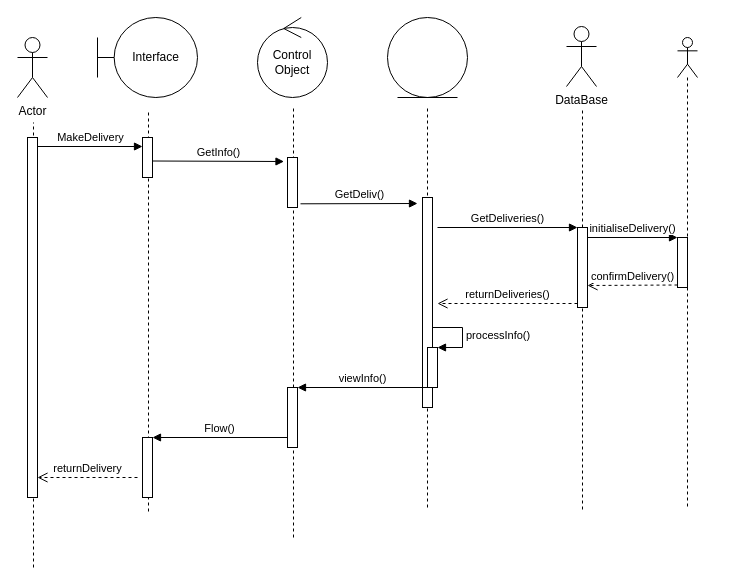
The diagram is 732 pixels wide and 586 high, and some of its shapes have lost their labels. The centre of each missing label's shape, as x and y in pixels:
"Data processor" belongs at (427,57).
"restaurant" belongs at (687,272).
